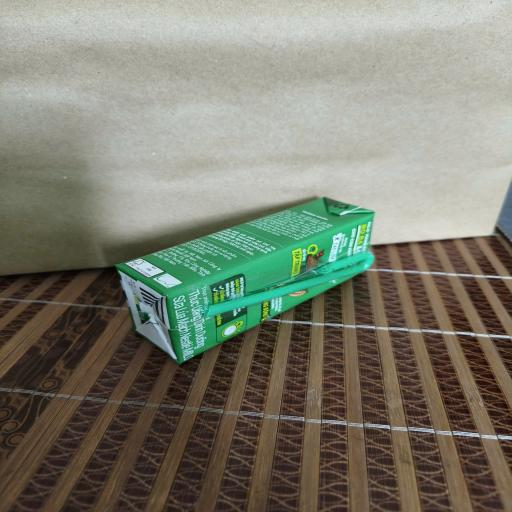milo: (114, 196, 376, 364)
